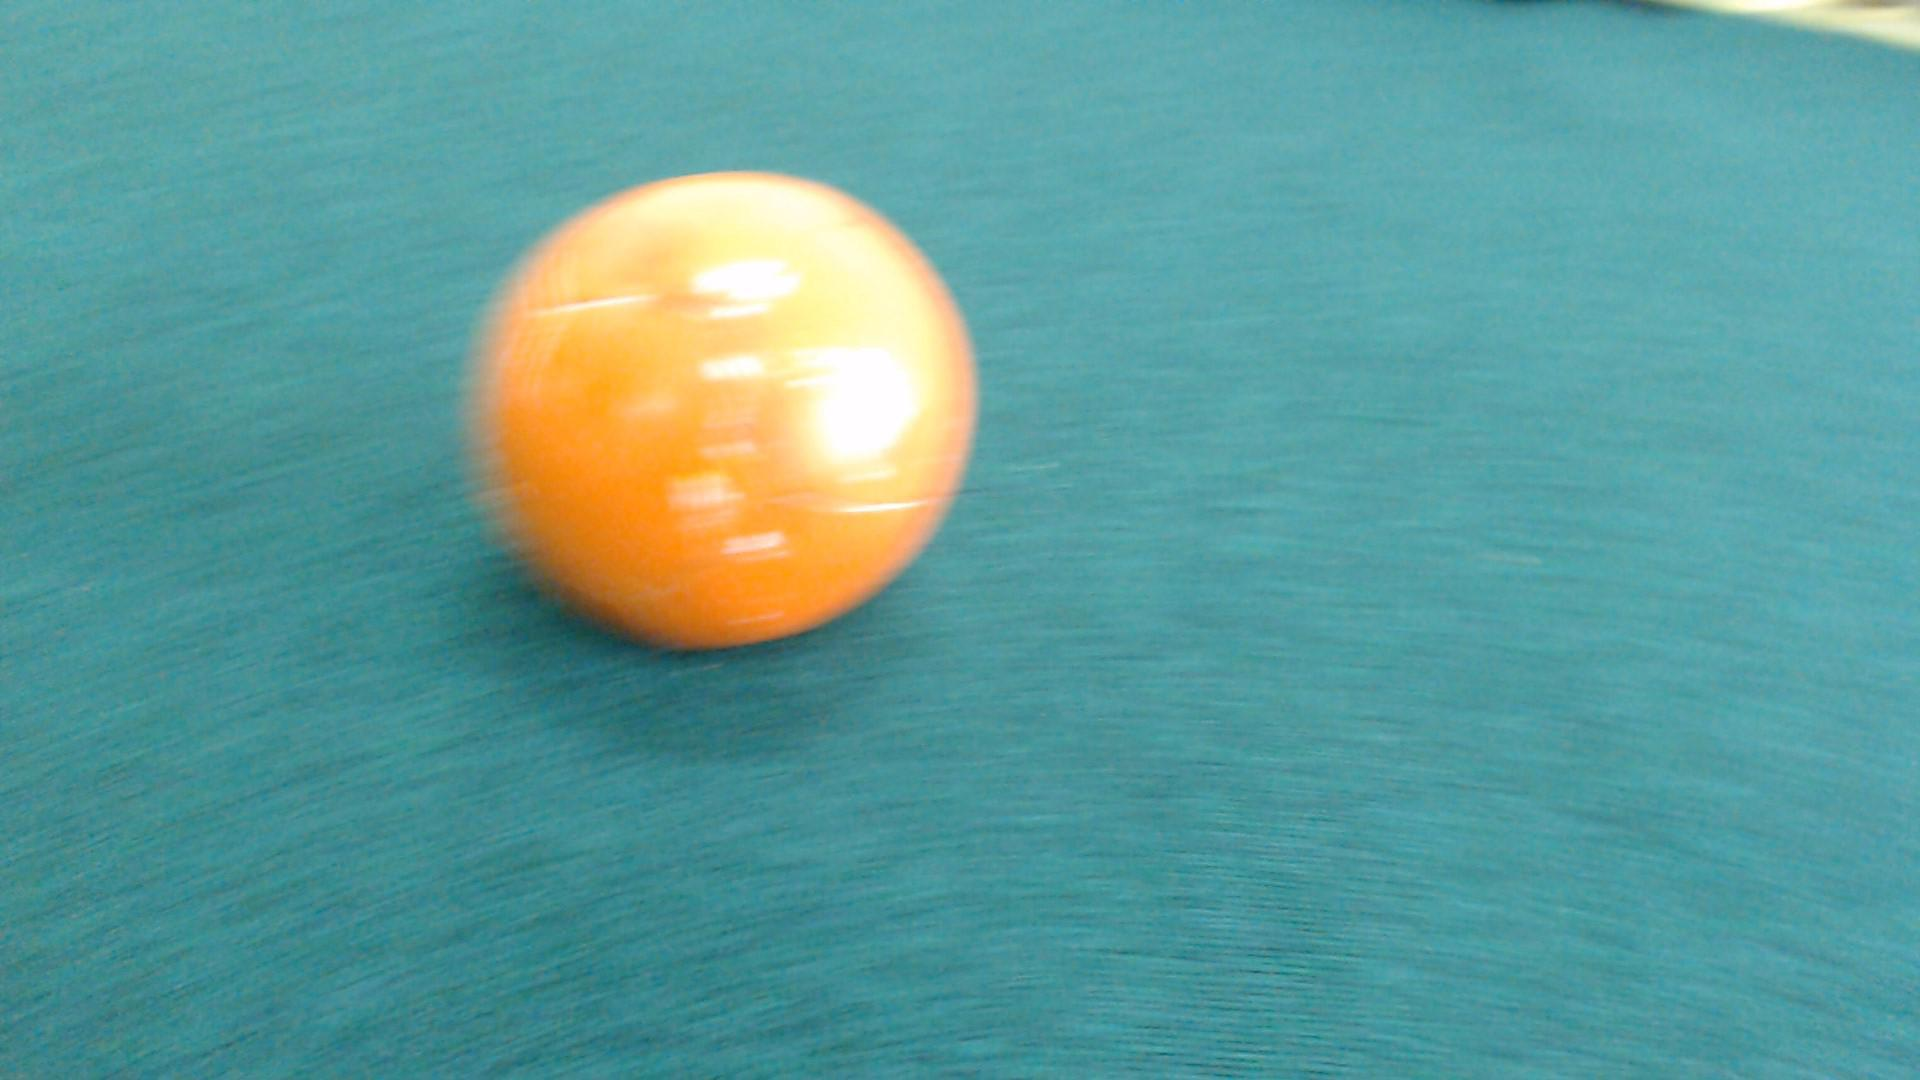bola: (439, 144, 994, 732)
